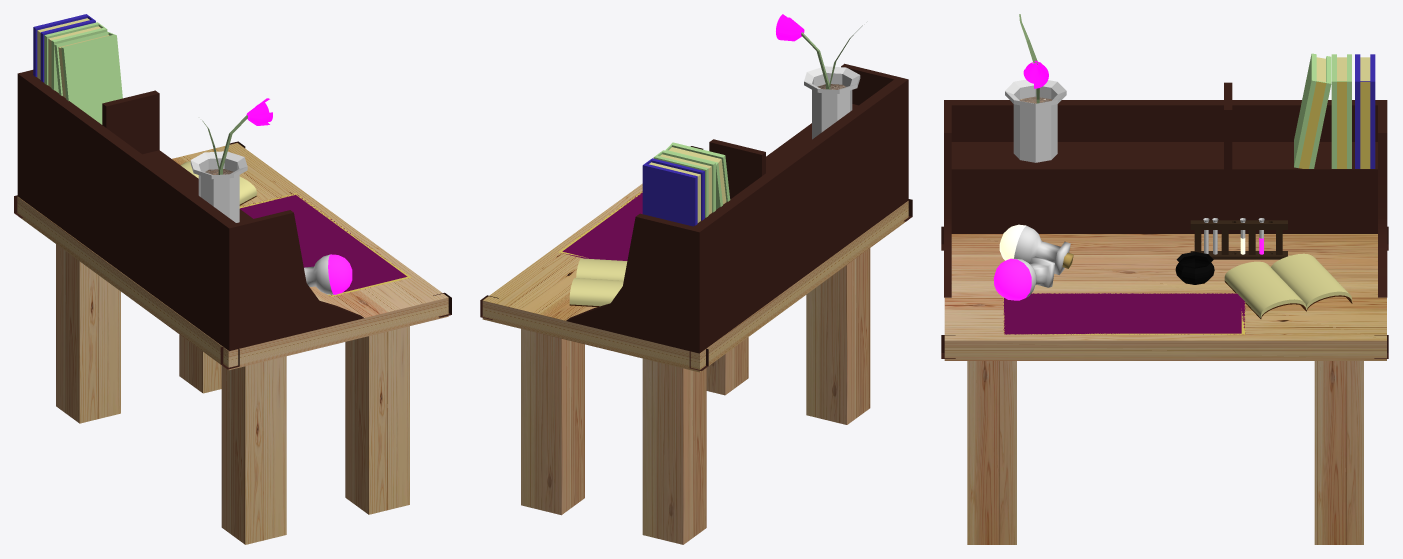
The model's file is 実験台.fbx.
The picture shows the model from 3 angles, left to right: view 1: azimuth 30°, elevation 25°; view 2: azimuth 150°, elevation 25°; view 3: azimuth 270°, elevation 25°; orthographic projection. The views are drawn at different scales.
Visible parts, largest first — view 1: 机, 壁, 本２, 布, 花瓶, 瓶, 花; view 2: 机, 壁, 本２, 布, 花瓶, 本, 花; view 3: 机, 壁, 布, 本２, 本, 花瓶, 薬台, 瓶, 瓶２, 容器, 花, 試験管.
Part boxes in pixels (bbox=[...]): 机: bbox=[17, 143, 448, 544]; 壁: bbox=[17, 70, 364, 351]; 本２: bbox=[33, 14, 122, 124]; 布: bbox=[239, 193, 411, 296]; 花瓶: bbox=[190, 151, 247, 222]; 瓶: bbox=[304, 254, 352, 294]; 花: bbox=[202, 98, 272, 174]; 机: bbox=[482, 183, 908, 544]; 壁: bbox=[566, 63, 908, 353]; 本２: bbox=[642, 142, 730, 226]; 布: bbox=[559, 191, 642, 260]; 花瓶: bbox=[804, 66, 860, 139]; 本: bbox=[569, 258, 627, 306]; 花: bbox=[776, 14, 862, 89]; 机: bbox=[944, 234, 1386, 544]; 壁: bbox=[944, 82, 1387, 297]; 布: bbox=[1003, 293, 1245, 334]; 本２: bbox=[1294, 53, 1375, 168]; 本: bbox=[1224, 253, 1352, 318]; 花瓶: bbox=[1005, 79, 1066, 162]; 薬台: bbox=[1190, 220, 1287, 259]; 瓶: bbox=[993, 256, 1054, 300]; 瓶２: bbox=[999, 224, 1073, 274]; 容器: bbox=[1175, 252, 1214, 284]; 花: bbox=[1019, 14, 1048, 103]; 試験管: bbox=[1203, 218, 1264, 254].
Size of the model in its own units: 556 by 986 by 919.
